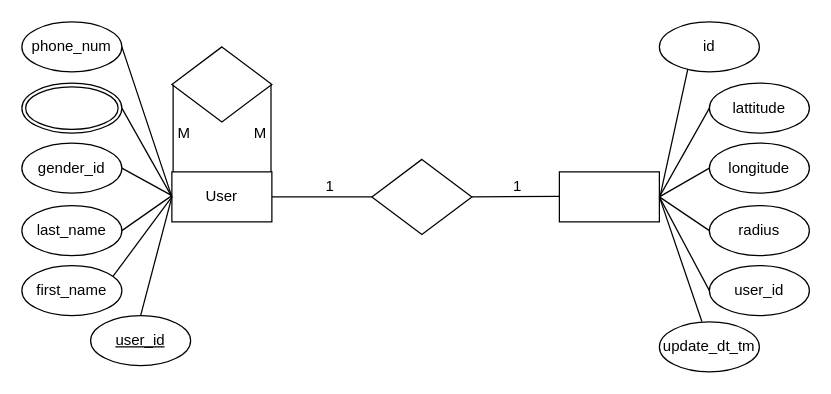
This 831x394 diagram has some shape labels left out. The centre of each missing label's shape, as x and y in pixels:
email_id: the point at 71,107
Location: the point at 608,196
match: the point at 221,84
prefers: the point at 421,196
